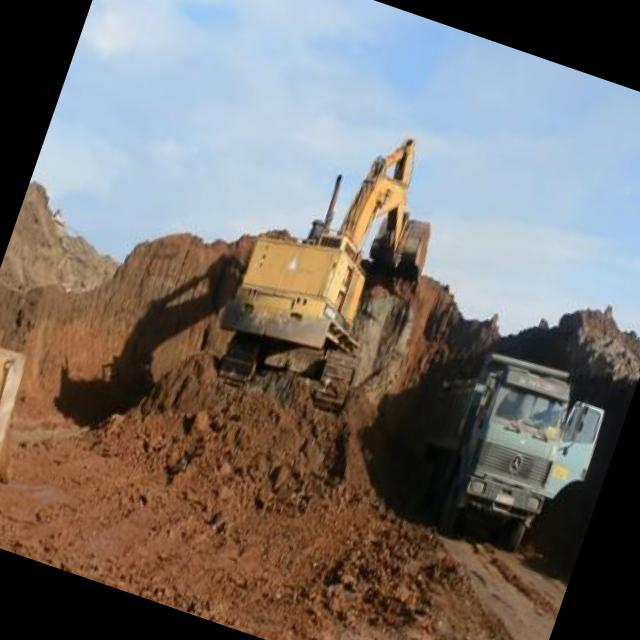Dump Truck: (392, 333, 612, 573)
Excavator: (198, 94, 464, 423)
